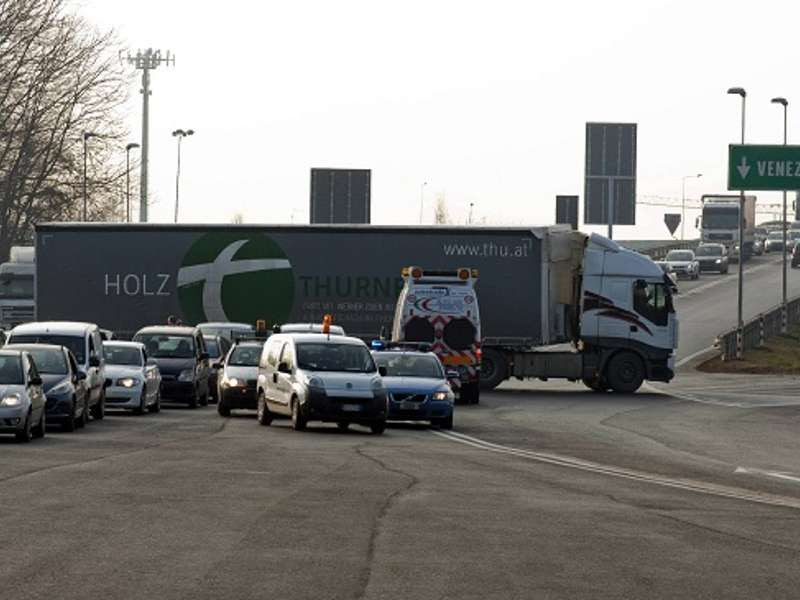car: (281, 337, 392, 437), (365, 336, 455, 435), (106, 328, 160, 411), (150, 325, 204, 408)
